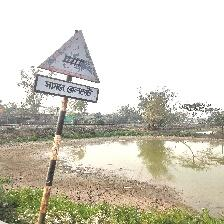Rail-crossing: (34, 30, 101, 103)
